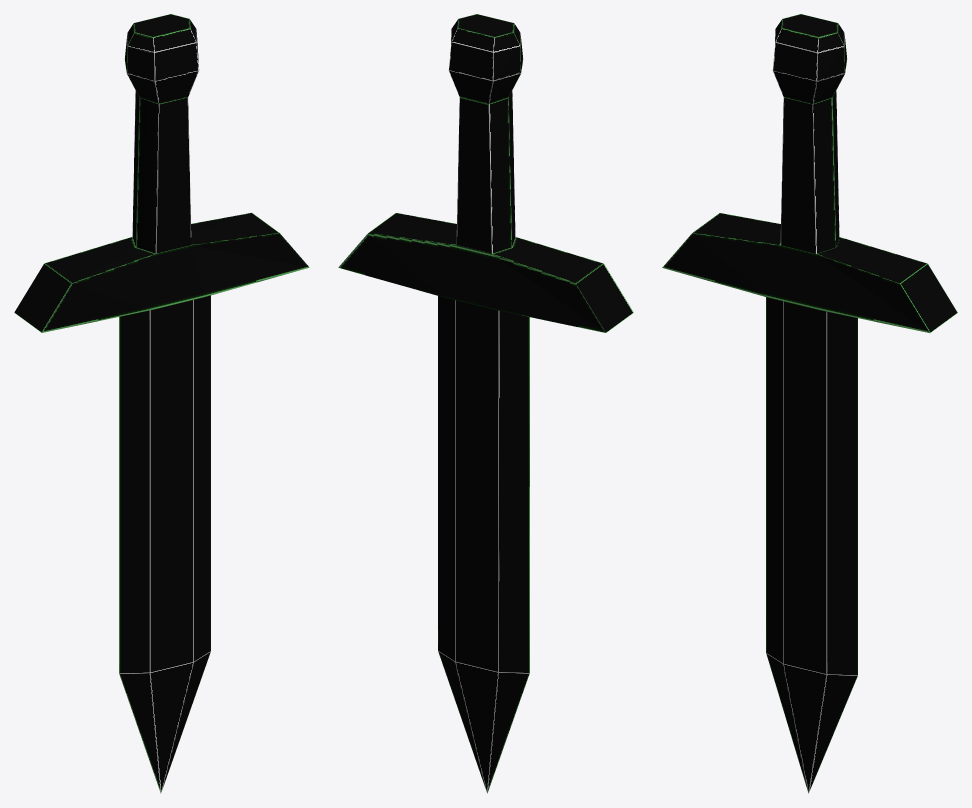
File: knife.FBX
The picture shows the model from 3 angles, left to right: view 1: azimuth 30°, elevation 25°; view 2: azimuth 150°, elevation 25°; view 3: azimuth 330°, elevation 25°; orthographic projection.
Visible parts, largest first — view 1: Box001; view 2: Box001; view 3: Box001.
Boxes of the visible parts, x1=… form: Box001: x1=14, y1=14, x2=309, y2=793; Box001: x1=338, y1=14, x2=633, y2=793; Box001: x1=662, y1=14, x2=957, y2=793.
Bounding box in the file's own units: 12.89 × 35.32 × 2.86.
